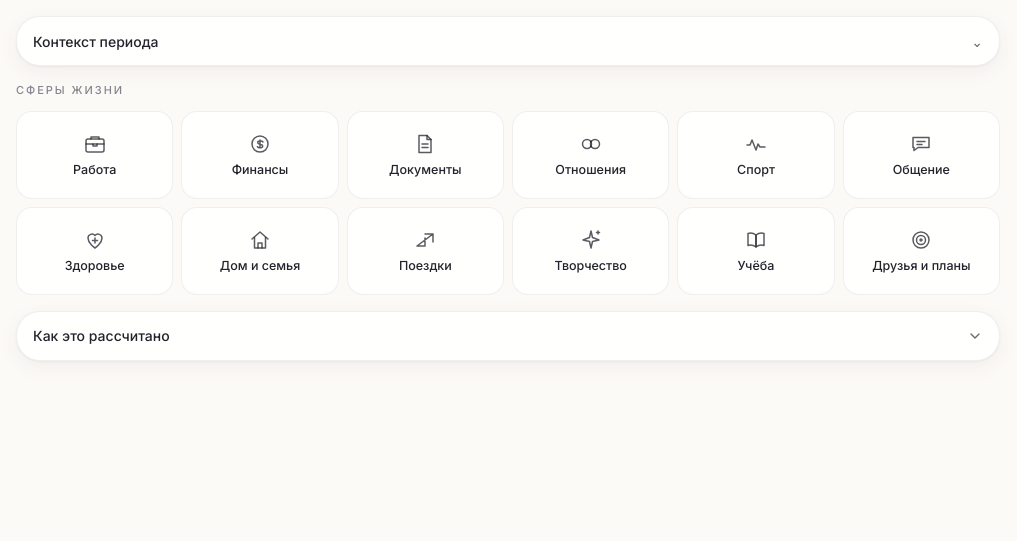
Test: Today Convergence transport, access, and accessibility contract › expands the calculation disclosure with stats and static product paragraphs
The image size is (1017, 541).
Click the button "Как это рассчитано" at (101, 336), box [17,312,999,360]
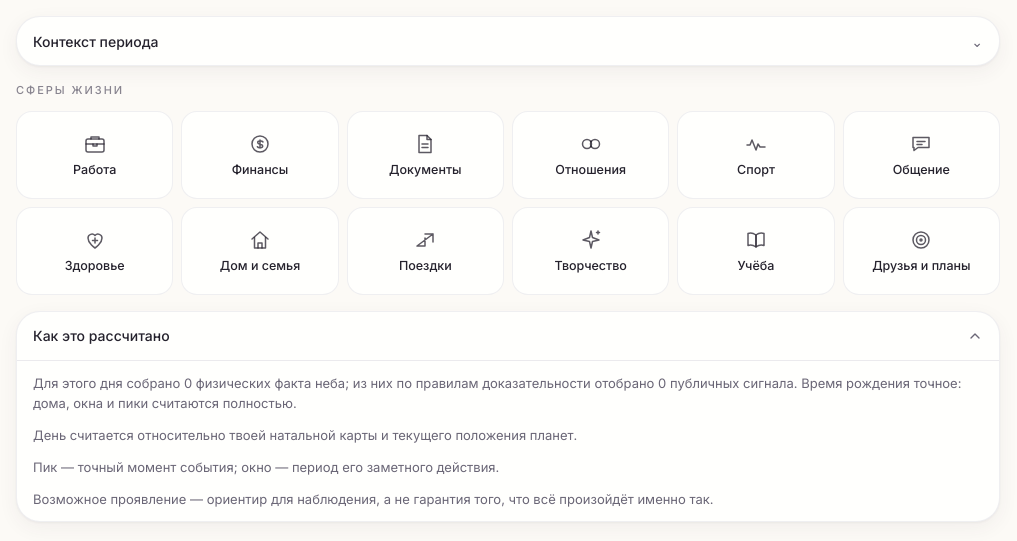
Now the text with test id "how-calculated-stats" shows "физических факта неба", box [192,374,658,390]
Now the element with id "today-calculation-details" shows "День считается относительно твоей натальной карты", box [33,426,577,442]
Now the element with id "today-calculation-details" shows "Пик — точный момент события", box [33,458,499,474]
